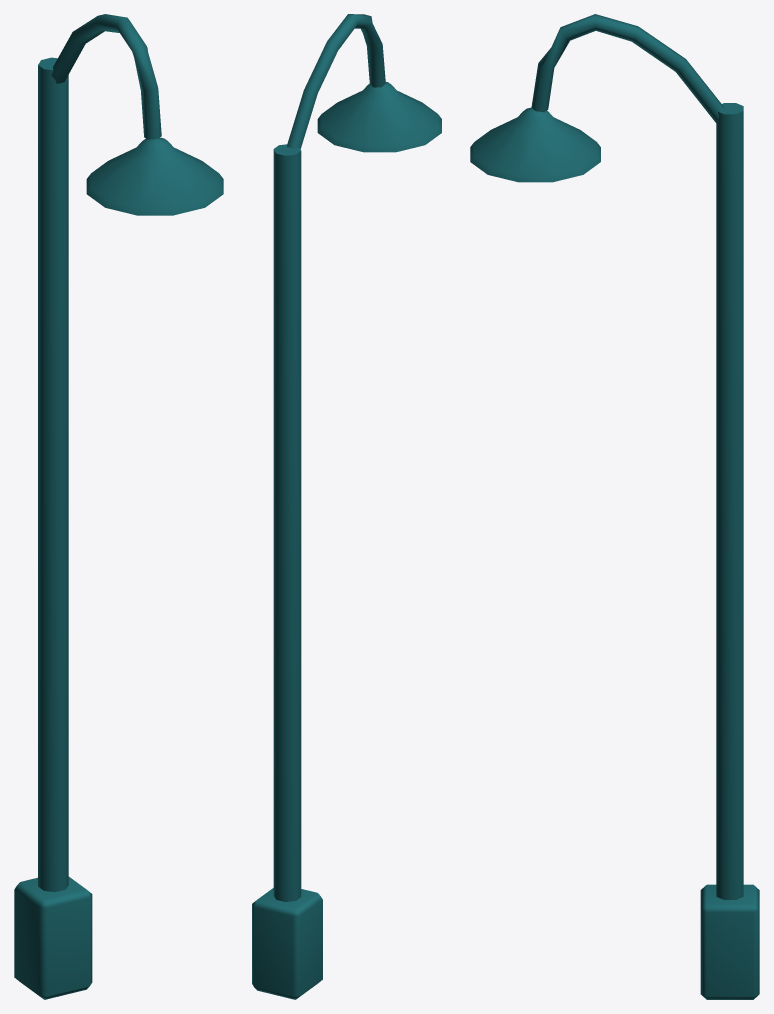
File: LampFL.fbx
3 views of the same model, side by side, from view 1: azimuth 30°, elevation 25°; view 2: azimuth 150°, elevation 25°; view 3: azimuth 270°, elevation 25° (orthographic). The views are drawn at different scales.
Visible parts, largest first — view 1: LampFL; view 2: LampFL; view 3: LampFL.
Boxes of the visible parts, box(x1,y1,x2,y2) form: LampFL: box(14, 14, 223, 999); LampFL: box(252, 14, 441, 999); LampFL: box(470, 14, 759, 999).
Size of the model in its own units: 0.6182 by 5.08 by 1.37.
